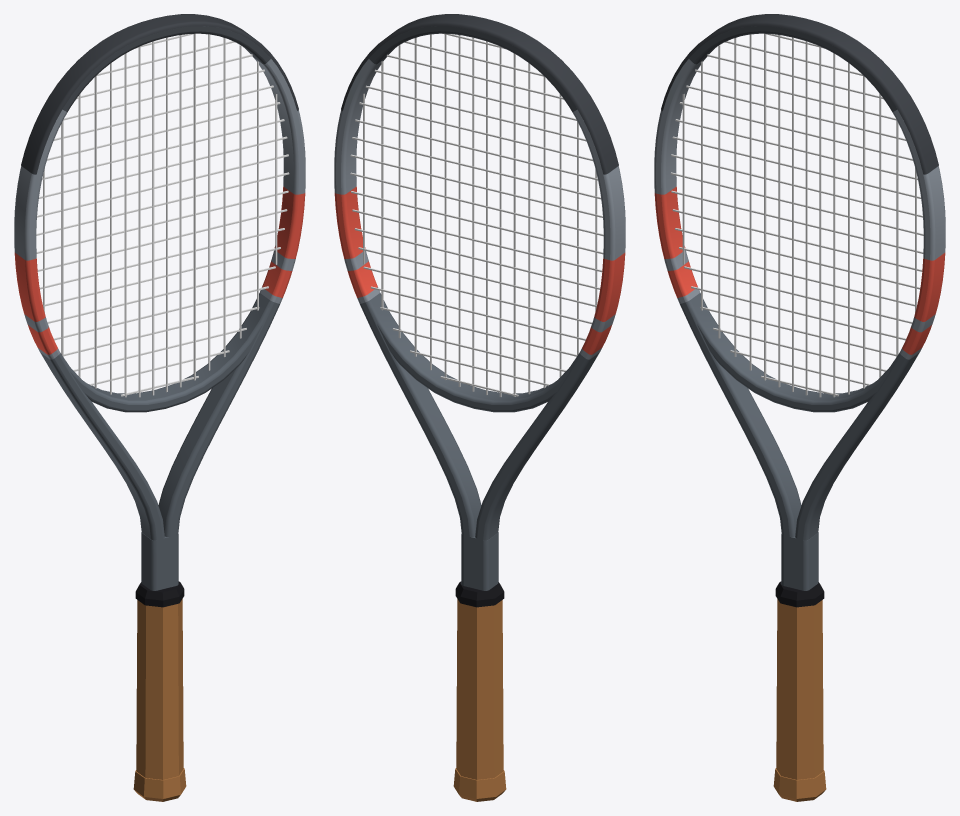
File: babolat-pure-strike-97-2024.glb
The picture shows the model from 3 angles, left to right: view 1: azimuth 30°, elevation 25°; view 2: azimuth 150°, elevation 25°; view 3: azimuth 330°, elevation 25°; orthographic projection.
Visible parts, largest first — view 1: frame, strings_mains, strings_crosses, grip, bumper, butt_cap, collar; view 2: frame, strings_mains, strings_crosses, grip, bumper, butt_cap, collar; view 3: frame, strings_mains, strings_crosses, grip, bumper, butt_cap, collar.
Part boxes in pixels (<box>): frame: <box>14,26,305,590</box>; strings_mains: <box>43,33,277,397</box>; strings_crosses: <box>36,34,289,396</box>; grip: <box>136,599,183,779</box>; bumper: <box>21,14,298,174</box>; butt_cap: <box>133,768,186,801</box>; collar: <box>135,581,184,607</box>; frame: <box>334,26,625,590</box>; strings_mains: <box>363,34,597,396</box>; strings_crosses: <box>350,33,603,396</box>; grip: <box>456,599,503,779</box>; bumper: <box>341,14,618,174</box>; butt_cap: <box>453,768,506,801</box>; collar: <box>455,581,504,607</box>; frame: <box>654,26,945,590</box>; strings_mains: <box>682,33,916,397</box>; strings_crosses: <box>670,34,923,396</box>; grip: <box>776,599,823,779</box>; bumper: <box>661,14,938,174</box>; butt_cap: <box>773,768,826,801</box>; collar: <box>775,581,824,607</box>.
Size of the model in its own units: 0.2621 by 0.6861 by 0.0396.
